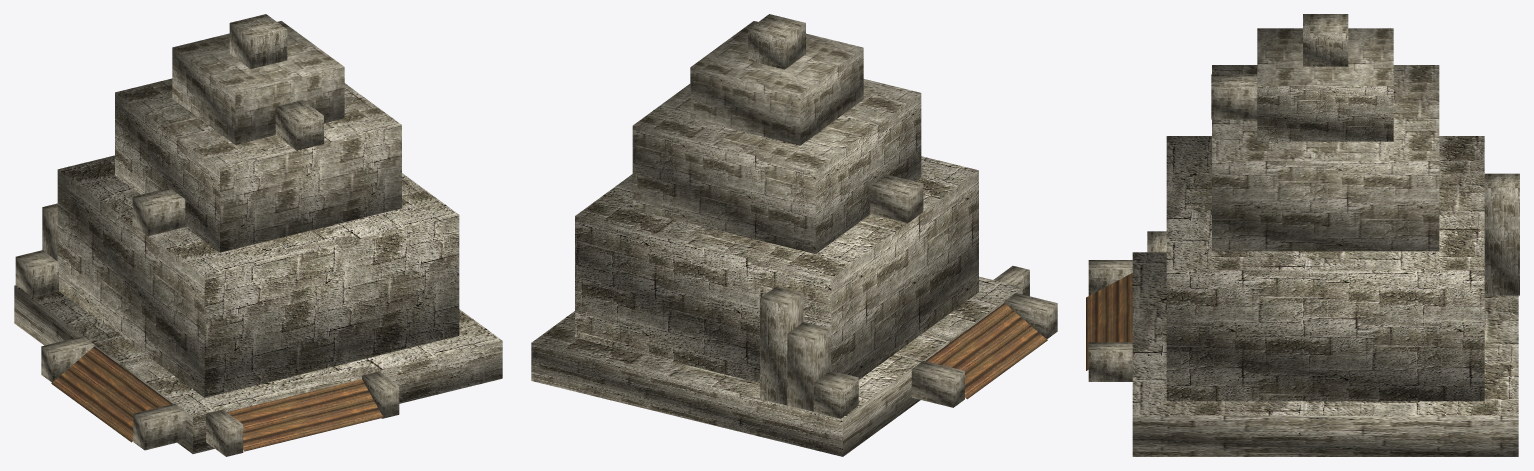
The model's file is pro_iseki.obj.
The picture shows the model from 3 angles, left to right: view 1: azimuth 30°, elevation 25°; view 2: azimuth 150°, elevation 25°; view 3: azimuth 270°, elevation 25°; orthographic projection. The views are drawn at different scales.
Parts seen in each view (by area): view 1: Cube.012_Cube.043, Cube.015_Cube.044, Cube_Cube.042, Cube.016_Cube.045, Room.037_Room.040, Room.036_Room.039, Cube.017_Cube.046, Cube.020_Cube.003, Cube.025_Cube.006, Cube.021_Cube.004, Cube.009_Cube.000, Cube.026_Cube.007 (+3 smaller); view 2: Cube.012_Cube.043, Cube.015_Cube.044, Cube_Cube.042, Cube.016_Cube.045, Room.036_Room.039, Cube.019_Cube.002, Cube.018_Cube.001, Cube.017_Cube.046, Cube.020_Cube.003, Cube.024_Cube.005, Cube.009_Cube.000, Cube.025_Cube.006 (+1 smaller); view 3: Cube.012_Cube.043, Cube_Cube.042, Cube.015_Cube.044, Cube.016_Cube.045, Cube.019_Cube.002, Room.037_Room.040, Cube.017_Cube.046, Cube.021_Cube.004, Cube.027_Cube.008, Cube.026_Cube.007, Cube.025_Cube.006.
Boxes of the visible parts, box(x1,y1,x2,y2) form: Cube.012_Cube.043: box(57, 155, 459, 397); Cube.015_Cube.044: box(115, 78, 401, 252); Cube_Cube.042: box(14, 285, 502, 453); Cube.016_Cube.045: box(172, 21, 344, 144); Room.037_Room.040: box(227, 379, 383, 451); Room.036_Room.039: box(51, 346, 172, 442); Cube.017_Cube.046: box(229, 14, 287, 68); Cube.020_Cube.003: box(132, 187, 185, 236); Cube.025_Cube.006: box(133, 403, 186, 450); Cube.021_Cube.004: box(275, 100, 323, 150); Cube.009_Cube.000: box(15, 250, 58, 297); Cube.026_Cube.007: box(206, 409, 243, 456); Cube.012_Cube.043: box(575, 156, 978, 382); Cube.015_Cube.044: box(632, 79, 921, 253); Cube_Cube.042: box(531, 276, 1022, 456); Cube.016_Cube.045: box(690, 21, 863, 145); Room.036_Room.039: box(925, 303, 1047, 399); Cube.019_Cube.002: box(760, 286, 803, 405); Cube.018_Cube.001: box(787, 322, 830, 411); Cube.017_Cube.046: box(748, 14, 805, 69); Cube.020_Cube.003: box(870, 174, 923, 223); Cube.024_Cube.005: box(911, 360, 964, 407); Cube.009_Cube.000: box(813, 371, 858, 418); Cube.025_Cube.006: box(1004, 293, 1057, 338); Cube.012_Cube.043: box(1166, 136, 1484, 401); Cube_Cube.042: box(1132, 252, 1518, 456); Cube.015_Cube.044: box(1212, 65, 1439, 251); Cube.016_Cube.045: box(1257, 28, 1393, 141); Cube.019_Cube.002: box(1484, 173, 1519, 295); Room.037_Room.040: box(1086, 273, 1132, 370); Cube.017_Cube.046: box(1303, 14, 1348, 66); Cube.021_Cube.004: box(1211, 74, 1257, 119); Cube.027_Cube.008: box(1088, 342, 1132, 381); Cube.026_Cube.007: box(1088, 260, 1132, 295); Cube.025_Cube.006: box(1147, 231, 1166, 252).
Bounding box in the file's own units: 25.97 × 22.85 × 25.55.
